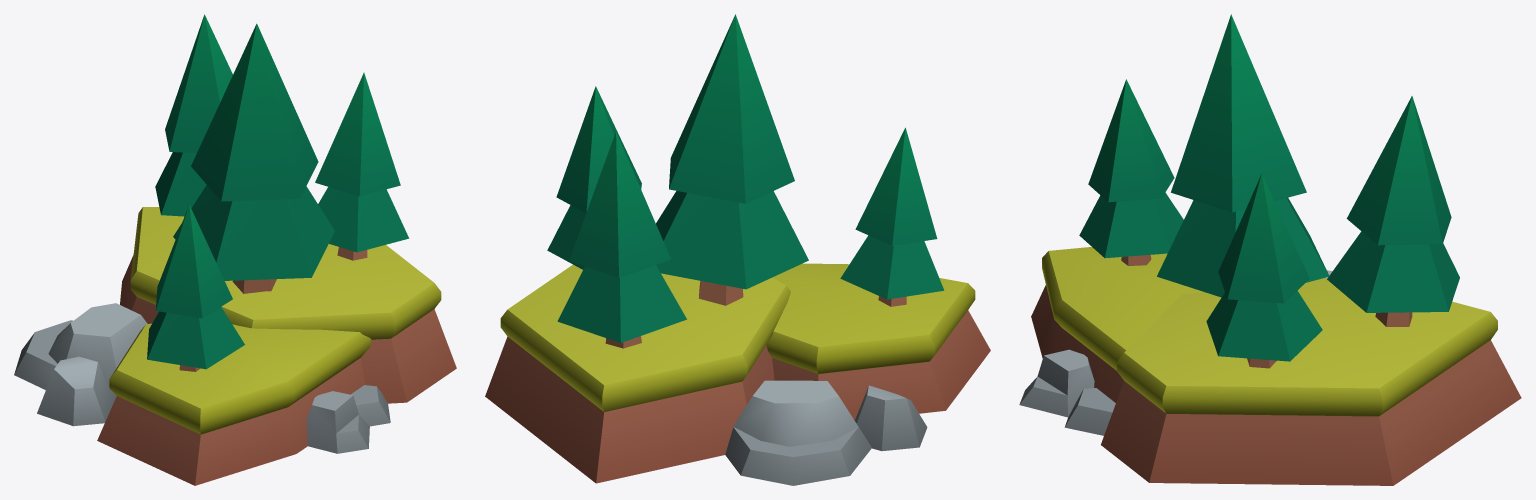
Rendered from hills_B.glb.
3 renders of one model, left to right at view 1: azimuth 30°, elevation 25°; view 2: azimuth 150°, elevation 25°; view 3: azimuth 270°, elevation 25°, orthographic. The views are drawn at different scales.
Visible parts, largest first — view 1: hills_B_trees; view 2: hills_B_trees; view 3: hills_B_trees.
Boxes of the visible parts, bbox=[...] form: hills_B_trees: bbox=[14, 14, 456, 485]; hills_B_trees: bbox=[485, 14, 990, 485]; hills_B_trees: bbox=[1019, 14, 1521, 485].
Size of the model in its own units: 1.47 by 1.37 by 1.62.
1 material, 1 textured.
